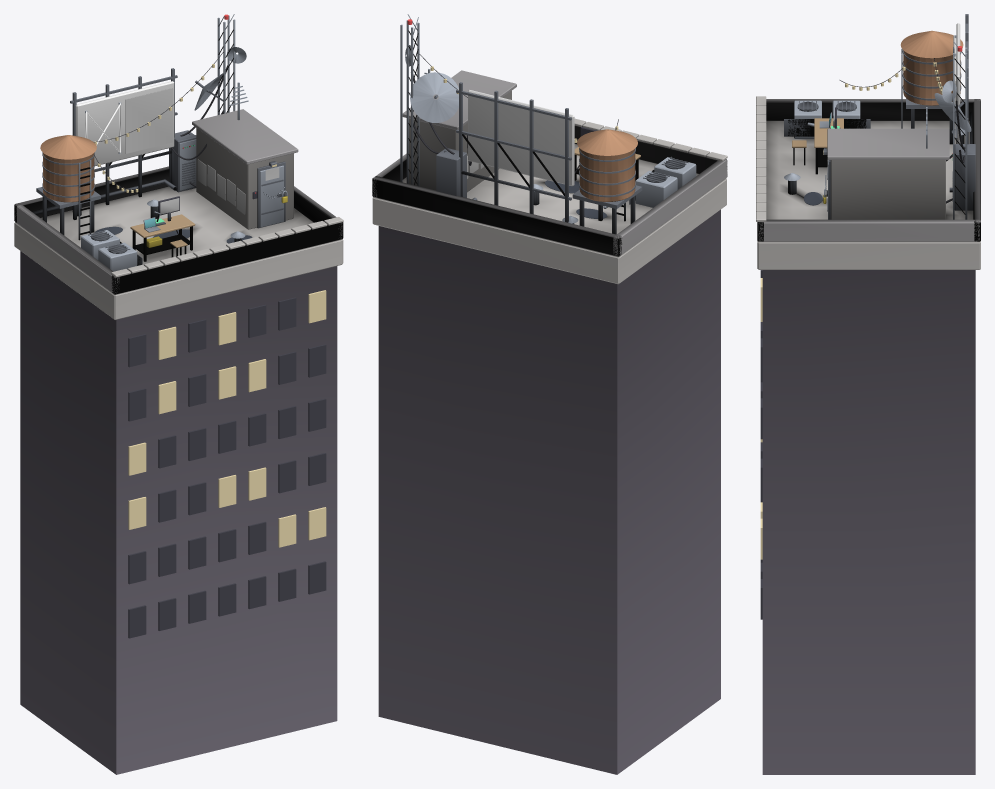
File: rooftop.opt.glb
The picture shows the model from 3 angles, left to right: view 1: azimuth 30°, elevation 25°; view 2: azimuth 150°, elevation 25°; view 3: azimuth 270°, elevation 25°; orthographic projection. The views are drawn at different scales.
Parts seen in each view (by area): view 1: building, coping_0, win_0_0, hut_roof, bulb2_0, ac_0, ac_fan_0, sign_plate, tank, sign_type, bench_shelf; view 2: building, coping_0, hut_roof, ac_fan_0, sign_plate, ac_0, tank; view 3: building, coping_0, hut_roof, ac_fan_0, tank, ac_0, bench_shelf, win_0_0, bulb2_0, sign_plate.
Boxes of the visible parts, x1=… form: building: x1=20, y1=251, x2=337, y2=774; coping_0: x1=14, y1=128, x2=343, y2=319; win_0_0: x1=128, y1=297, x2=326, y2=638; hut_roof: x1=14, y1=109, x2=343, y2=294; bulb2_0: x1=94, y1=64, x2=326, y2=547; ac_0: x1=77, y1=15, x2=283, y2=271; ac_fan_0: x1=36, y1=68, x2=285, y2=265; sign_plate: x1=75, y1=81, x2=174, y2=165; tank: x1=40, y1=135, x2=96, y2=202; sign_type: x1=125, y1=88, x2=173, y2=153; bench_shelf: x1=130, y1=214, x2=195, y2=254; building: x1=378, y1=209, x2=720, y2=774; coping_0: x1=372, y1=91, x2=727, y2=284; hut_roof: x1=372, y1=70, x2=727, y2=256; ac_fan_0: x1=434, y1=82, x2=688, y2=234; sign_plate: x1=468, y1=90, x2=574, y2=186; ac_0: x1=400, y1=20, x2=696, y2=223; tank: x1=577, y1=129, x2=637, y2=201; building: x1=762, y1=270, x2=975, y2=774; coping_0: x1=756, y1=96, x2=980, y2=269; hut_roof: x1=757, y1=99, x2=980, y2=241; ac_fan_0: x1=784, y1=14, x2=975, y2=219; tank: x1=900, y1=30, x2=963, y2=105; ac_0: x1=784, y1=47, x2=971, y2=219; bench_shelf: x1=792, y1=118, x2=843, y2=167; win_0_0: x1=760, y1=270, x2=762, y2=619; bulb2_0: x1=760, y1=62, x2=951, y2=559; sign_plate: x1=956, y1=23, x2=960, y2=143.
Size of the model in its own units: 8.4 by 22.71 by 6.44.
